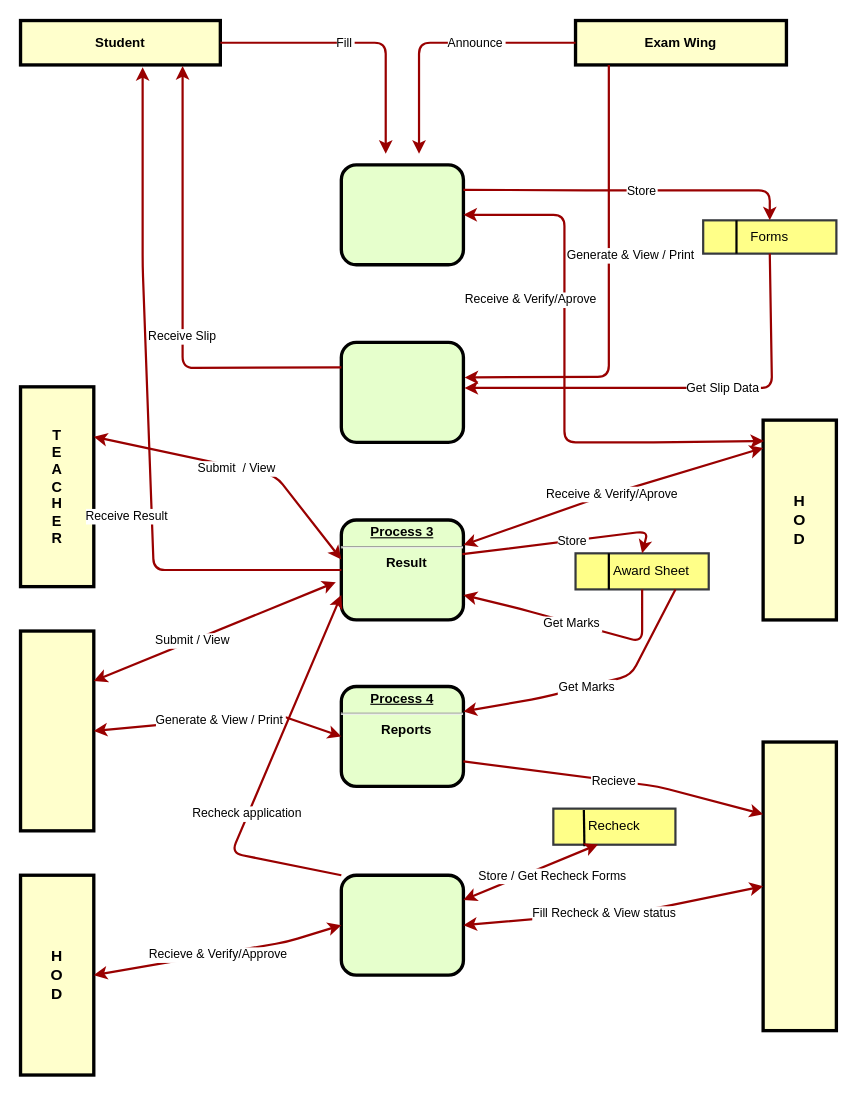
The diagram is 857 pixels wide and 1096 high, and some of its shapes have lost their labels. The shapes that lost their labels are listed below. From the top down, each one's box as (x1, y1, x2, y2) in pixels, then its label:
(339, 163, 465, 266): Process 1 Exam Forms
(339, 340, 465, 443): Process 2 Slip/Admit Card
(18, 629, 95, 832): E x a m W i n g
(761, 740, 837, 1032): S T U D E N T
(339, 873, 465, 976): Process 5 Recheck
